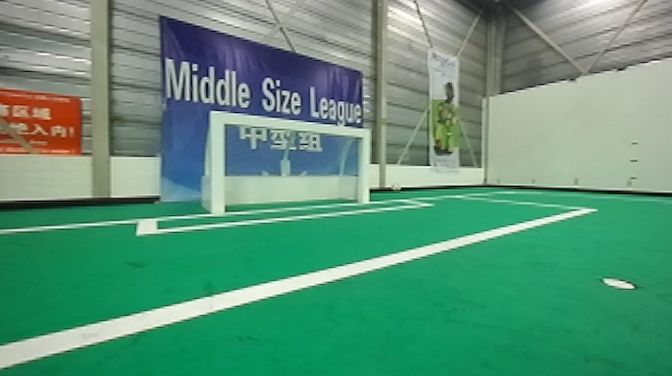goalpost: (202, 105, 231, 220), (357, 120, 373, 209)
